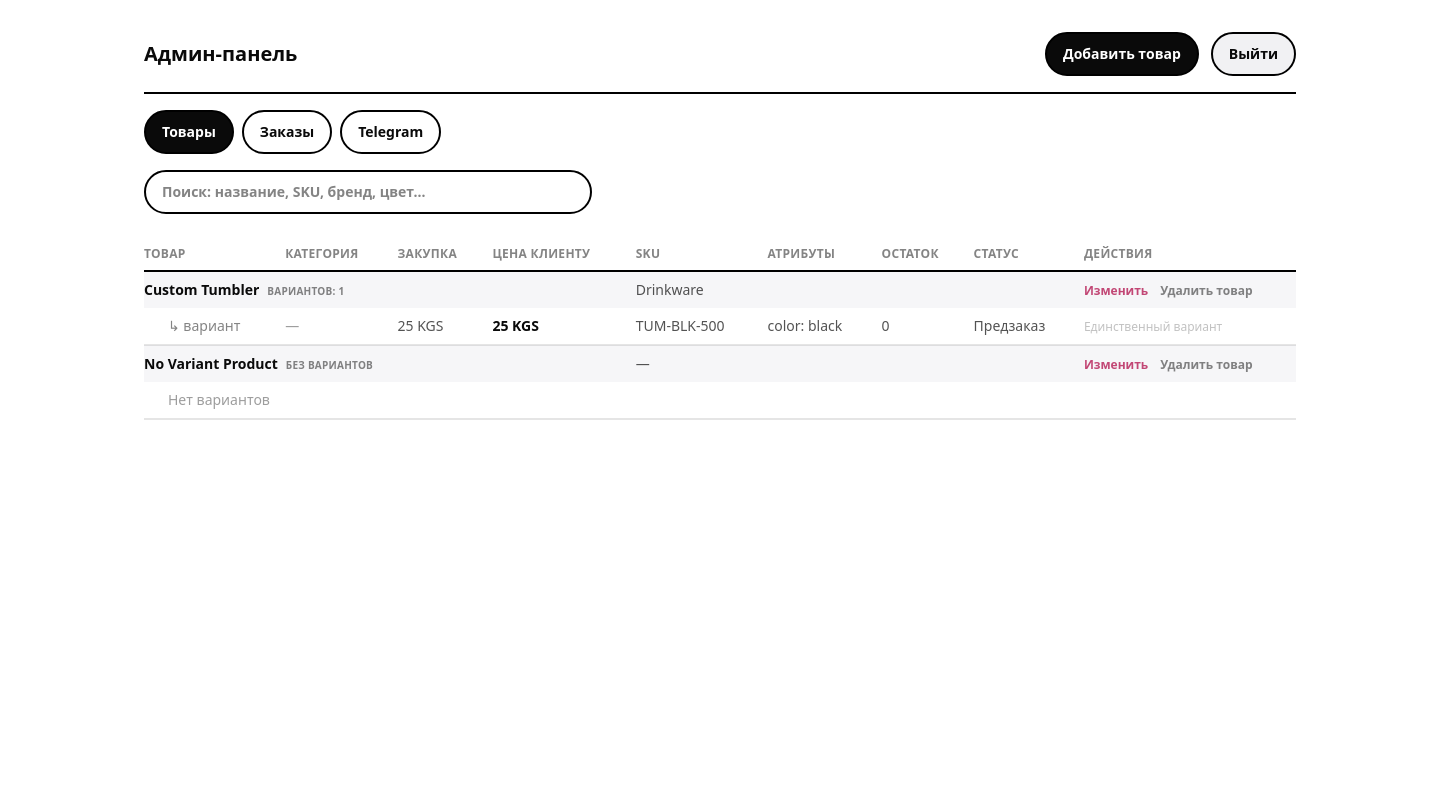
Test: AdminDashboard › opens the edit form prefilled when Edit is clicked
Click the button "Изменить" in the row of "Custom Tumbler". click: {"x": 1116, "y": 291}
box: 1084,283 -> 1148,299
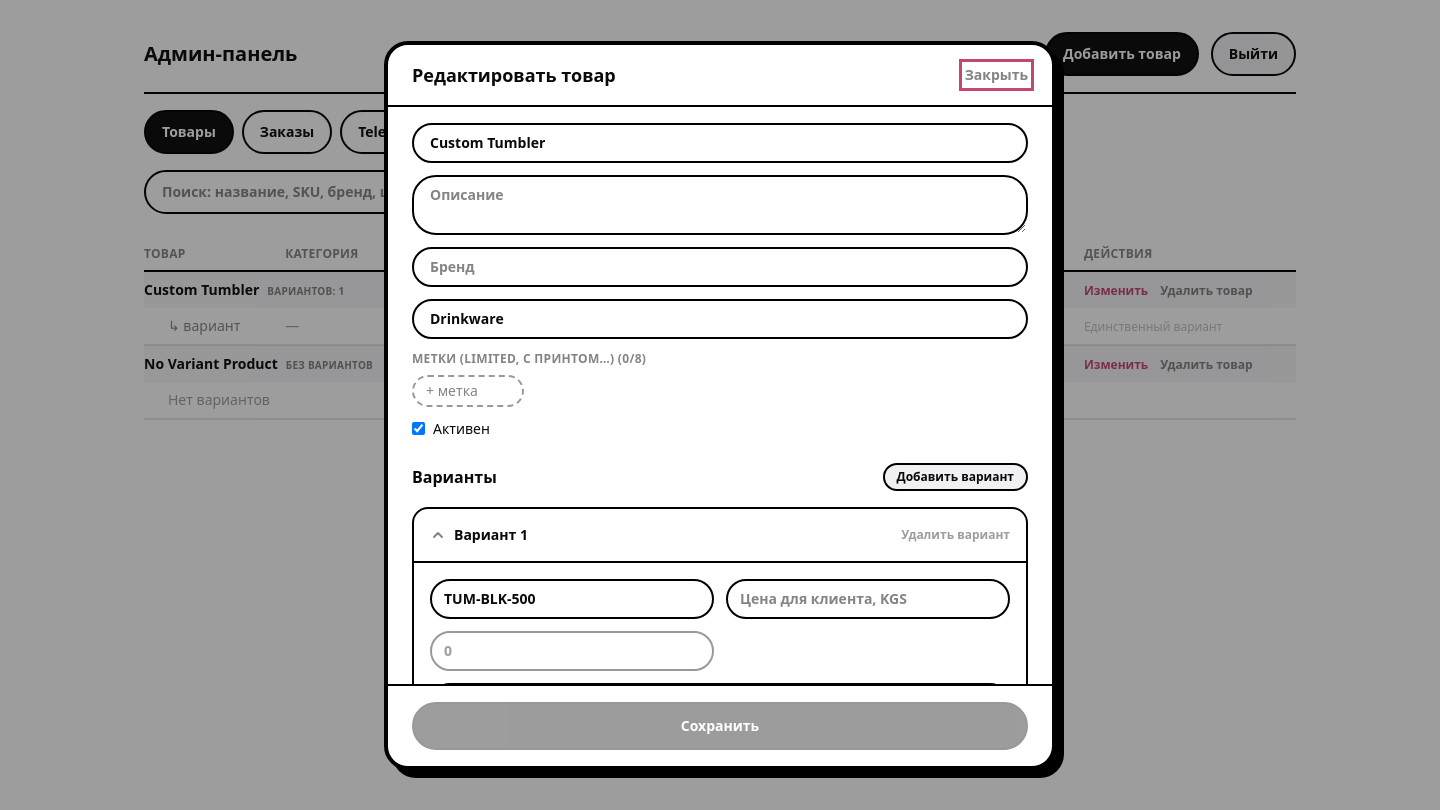
Result: the heading "Редактировать товар" is shown at 412,60 -> 616,88
Result: the 1st field showing "Custom Tumbler" is shown at 412,122 -> 1028,162
